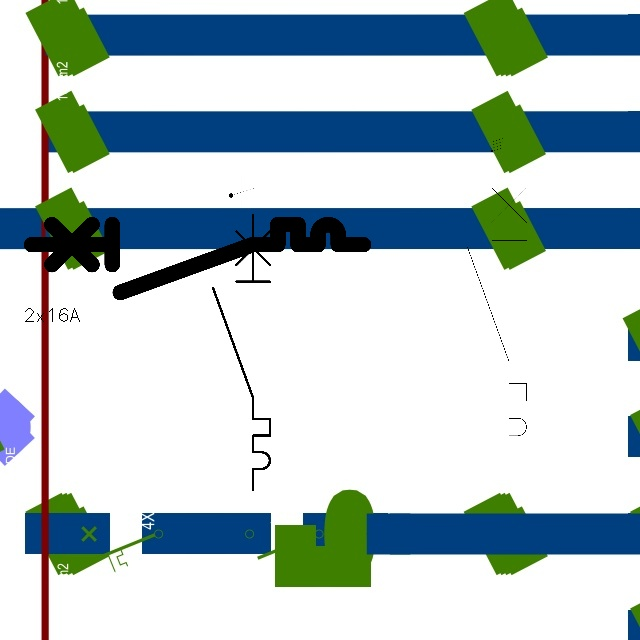interruptor_termomagnetico: (23, 216, 372, 301), (460, 163, 534, 464), (206, 207, 277, 496)
